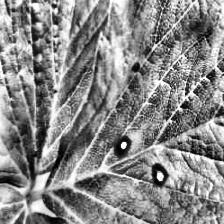Leaf Spot: (40, 0, 224, 224), (0, 0, 139, 197)
